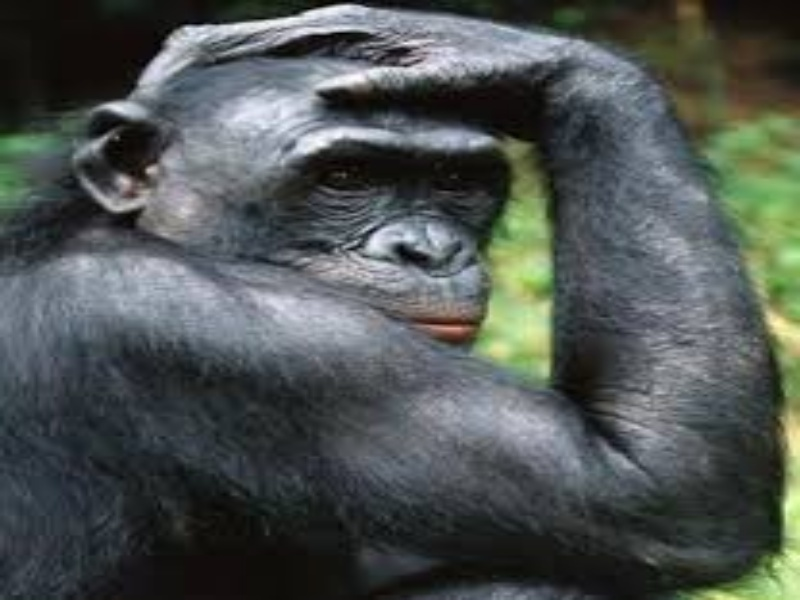monkey: (2, 6, 793, 600)
